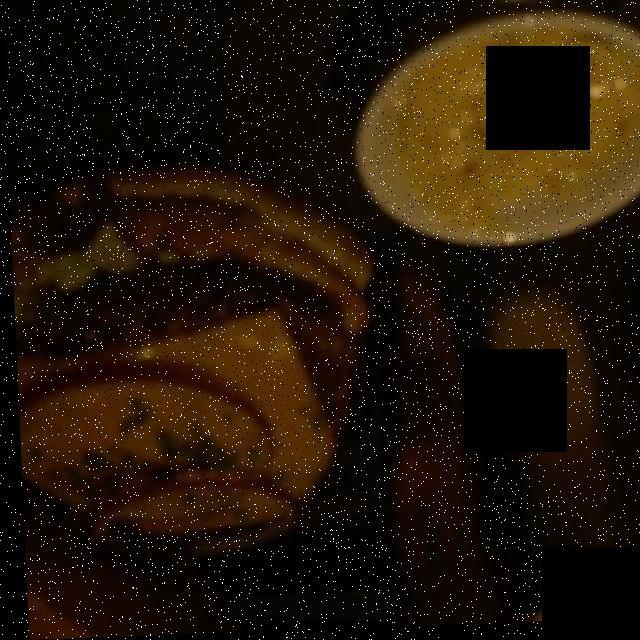hamburger: (14, 169, 370, 542)
